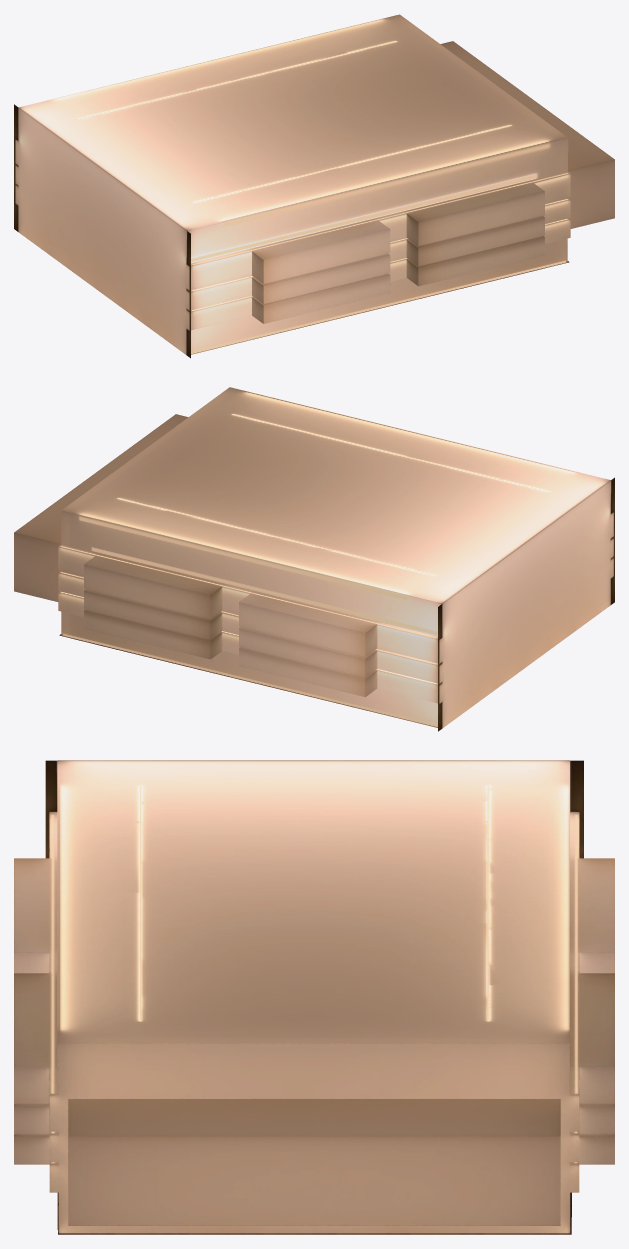
Rendered from Shelfscape.glb.
3 views of the same model, one above another, from view 1: azimuth 30°, elevation 25°; view 2: azimuth 150°, elevation 25°; view 3: azimuth 270°, elevation 25° (orthographic). The views are drawn at different scales.
Parts seen in each view (by area): view 1: wall; view 2: wall, Floor; view 3: wall, Floor.
Part boxes in pixels (bbox=[...]): wall: bbox=[14, 14, 614, 358]; wall: bbox=[14, 387, 614, 731]; Floor: bbox=[59, 634, 437, 727]; wall: bbox=[14, 760, 614, 1233]; Floor: bbox=[57, 1192, 571, 1234].
Size of the model in its own units: 44.92 by 12.42 by 35.61.
4 materials, 3 textured.
